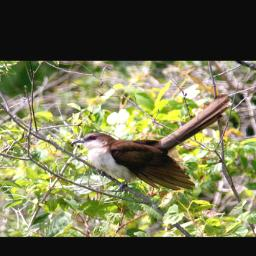Cuckoo: (69, 92, 196, 195)
